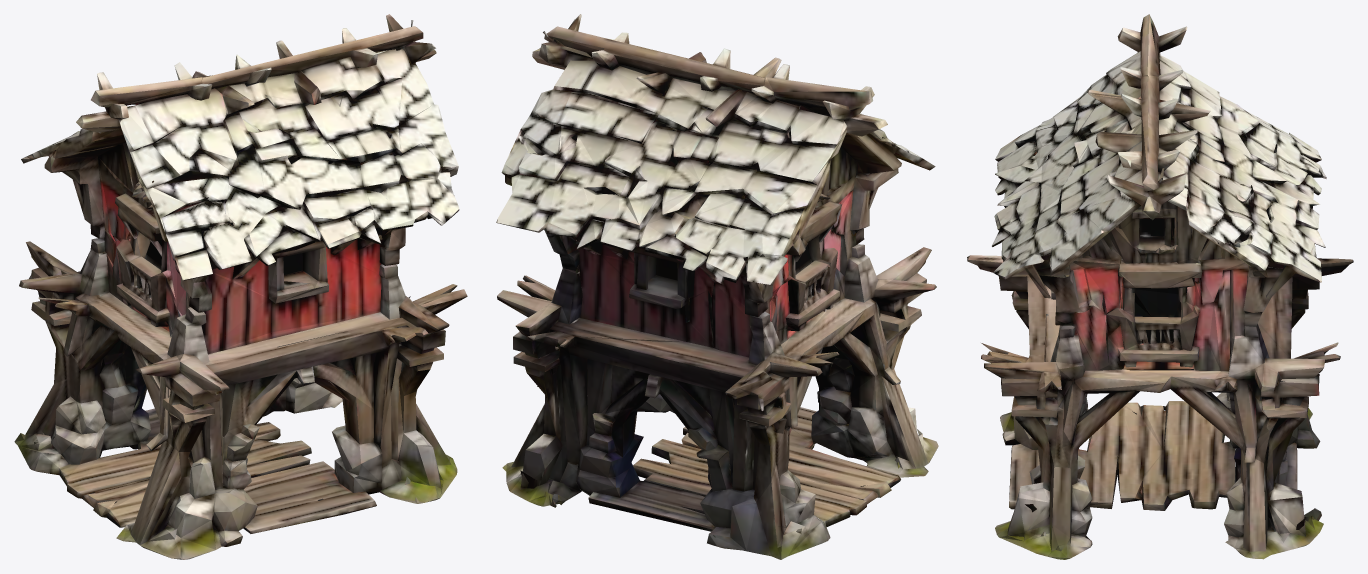
Rendered from orc_longhouse_01.glb.
3 renders of one model, left to right at view 1: azimuth 30°, elevation 25°; view 2: azimuth 150°, elevation 25°; view 3: azimuth 270°, elevation 25°, orthographic. The views are drawn at different scales.
Parts seen in each view (by area): view 1: geometry_0; view 2: geometry_0; view 3: geometry_0.
Part boxes in pixels (x1,y1,x2,y2): geometry_0: (14,14,467,559); geometry_0: (496,14,938,559); geometry_0: (967,14,1353,559).
Bounding box in the file's own units: 0.8985 × 1 × 0.8767.
Materials: 1 (1 with a texture image).
